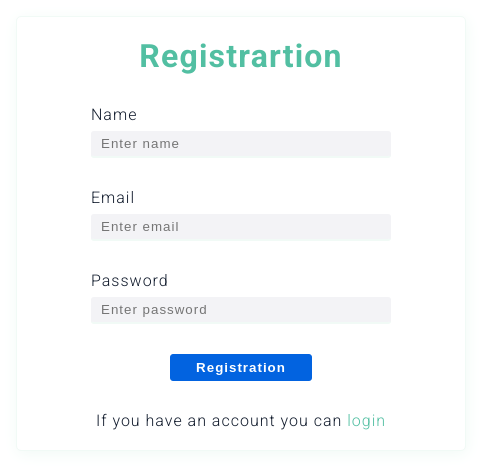
Test: registration comp › login link should navigate to /login
Expected: the button "Registration" is shown, [170, 354, 312, 381]
Click the link "login" at (367, 420), box [347, 411, 386, 430]
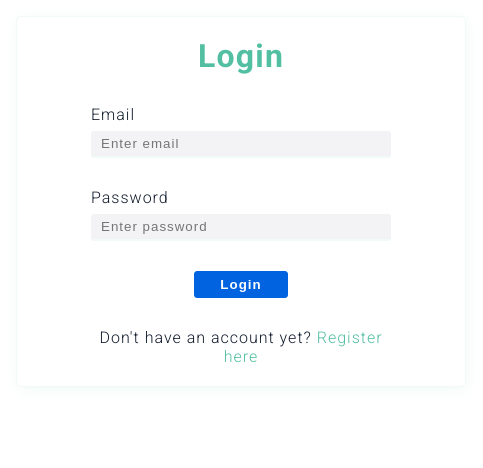
Now the text "Don't have an account yet? Register here" is shown, box [92, 328, 390, 366]
